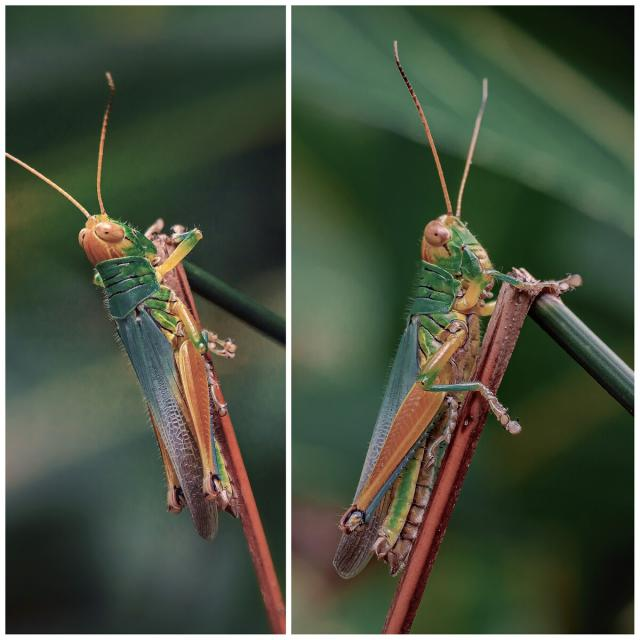ZhaMeng: (345, 48, 546, 575), (36, 110, 242, 556)
